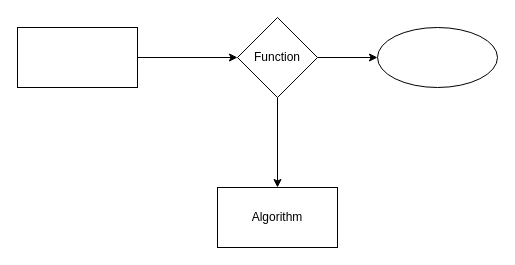
The diagram is 515 pixels wide and 265 high, and some of its shapes have lost their labels. The shapes that lost their labels are listed below. From the top down, each one's centre as x and y in pixels, then its label:
At [77,57]: "String".
At [437,57]: "Output".
